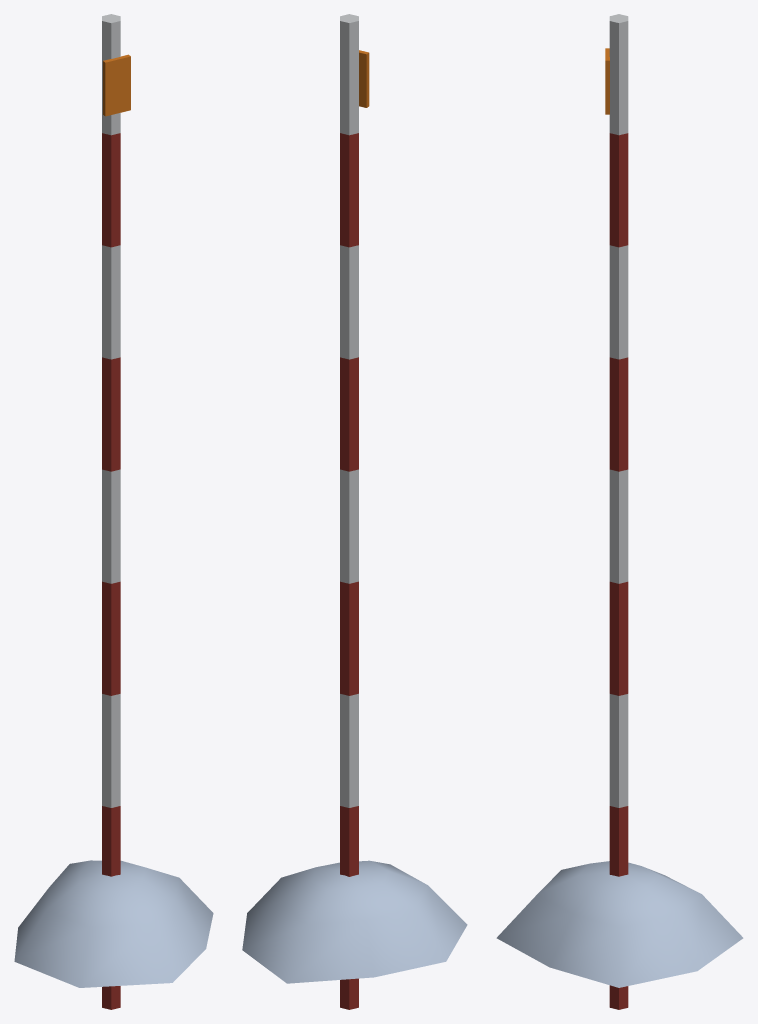
The model's file is snow_pole.glb.
3 views of the same model, side by side, from view 1: azimuth 30°, elevation 25°; view 2: azimuth 150°, elevation 25°; view 3: azimuth 270°, elevation 25° (orthographic).
Visible parts, largest first — view 1: Pole; view 2: Pole; view 3: Pole.
Boxes of the visible parts, box(x1,y1,x2,y2) form: Pole: box(14, 14, 213, 1009); Pole: box(242, 14, 467, 1009); Pole: box(496, 14, 743, 1009).
Size of the model in its own units: 0.4645 by 2.2 by 0.4998.
